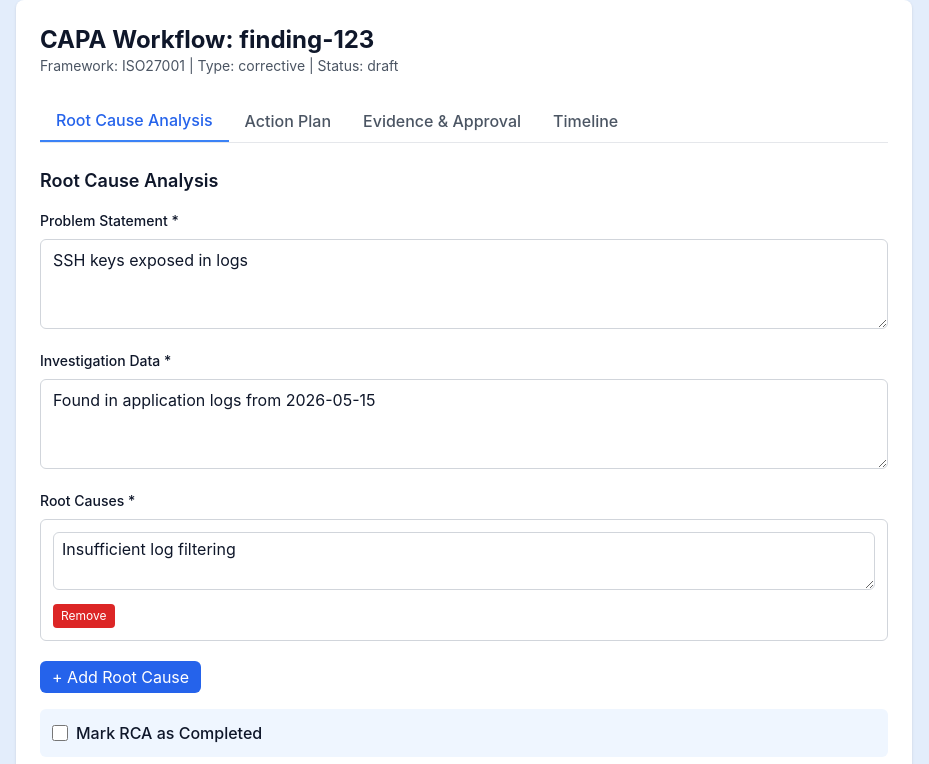
Test: CapaDetailPanel › should render evidence checklist items
Click the button "Evidence & Approval". click: (442, 121)
box: [347,100,537,142]
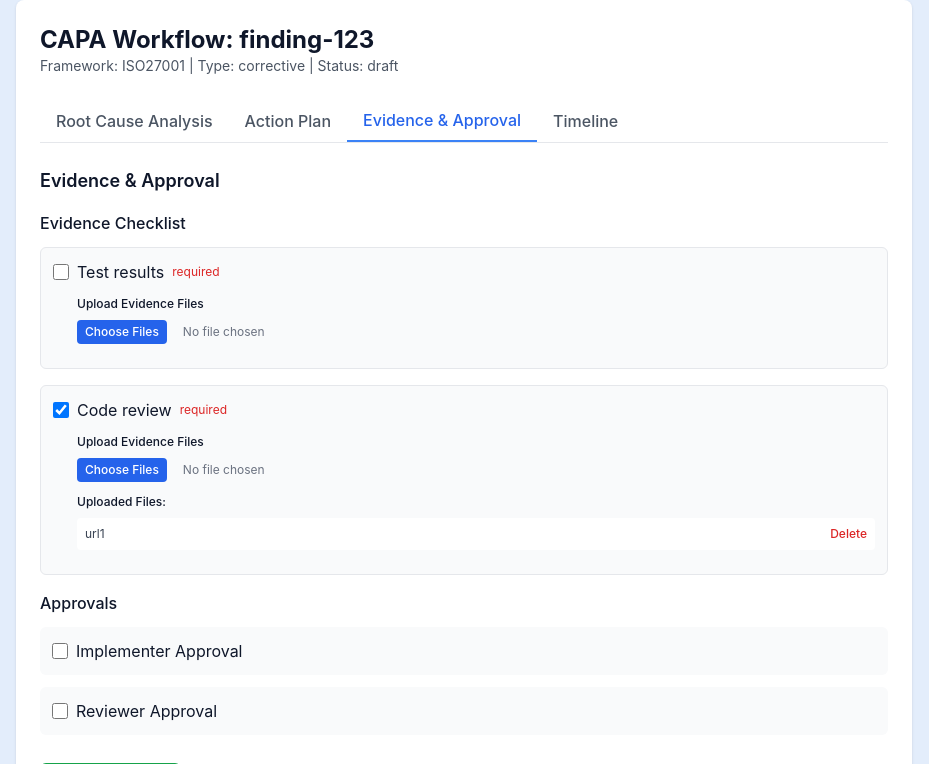
Check: the text "Test results" is shown, box [77,260,164,284]
Check: the text "Code review" is shown, box [77,398,172,422]
